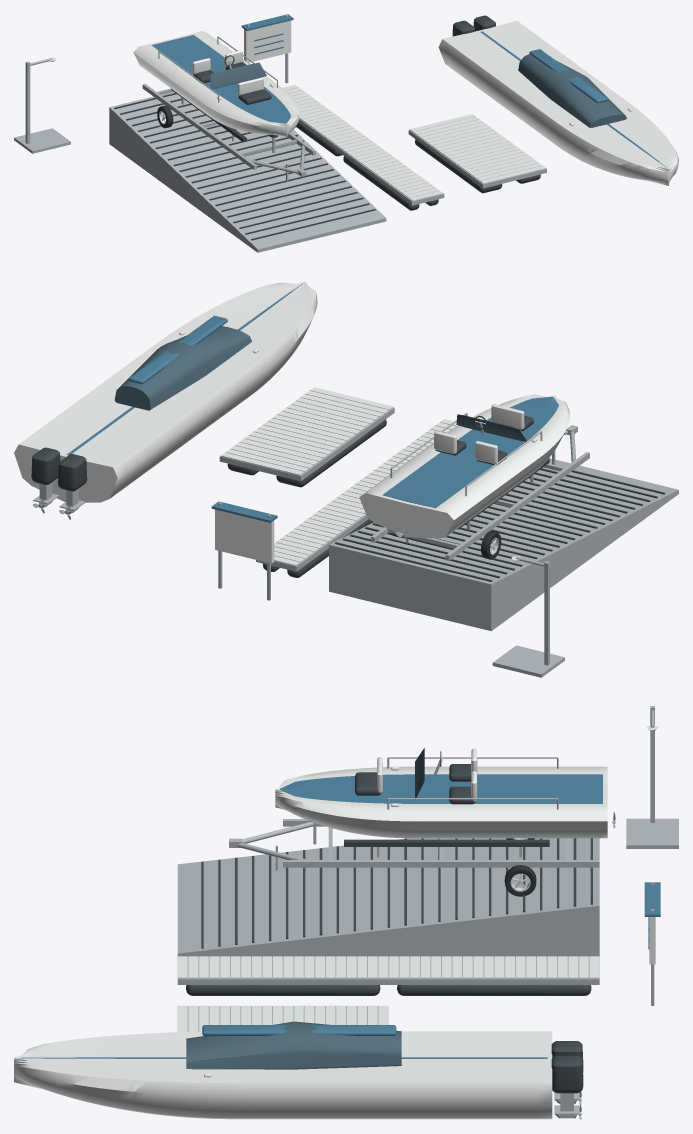
File: powerboat-racing-and-launch-ramp-launch--83454d06-starter-scene__22314.glb
3 renders of one model, top to bottom at view 1: azimuth 30°, elevation 25°; view 2: azimuth 150°, elevation 25°; view 3: azimuth 270°, elevation 25°, orthographic. The views are drawn at different scales.
Parts seen in each view (by area): view 1: 000-launch-ramp-module/0, 005-offshore-monohull-racer/0, 001-bowrider-on-trailer/0, 000-launch-ramp-module/1, 004-floating-dock-module/2, 005-offshore-monohull-racer/2, 001-bowrider-on-trailer/1, 003-ramp-side-finger-dock/2, 001-bowrider-on-trailer/5, 002-ramp-side-finger-dock/2, 007-notice-board/1, 006-rinse-station/0 (+8 smaller); view 2: 000-launch-ramp-module/0, 005-offshore-monohull-racer/0, 001-bowrider-on-trailer/0, 004-floating-dock-module/2, 000-launch-ramp-module/1, 001-bowrider-on-trailer/1, 005-offshore-monohull-racer/2, 002-ramp-side-finger-dock/2, 001-bowrider-on-trailer/5, 007-notice-board/1, 006-rinse-station/0, 005-offshore-monohull-racer/1 (+8 smaller); view 3: 000-launch-ramp-module/0, 005-offshore-monohull-racer/0, 001-bowrider-on-trailer/0, 005-offshore-monohull-racer/2, 001-bowrider-on-trailer/1, 000-launch-ramp-module/1, 001-bowrider-on-trailer/5, 002-ramp-side-finger-dock/2, 003-ramp-side-finger-dock/2, 004-floating-dock-module/2, 001-bowrider-on-trailer/2, 005-offshore-monohull-racer/1 (+8 smaller).
Part boxes in pixels (x1,y1,x2,y2): 000-launch-ramp-module/0: [109, 92, 386, 252]; 005-offshore-monohull-racer/0: [438, 20, 678, 185]; 001-bowrider-on-trailer/0: [133, 31, 300, 136]; 000-launch-ramp-module/1: [114, 93, 375, 240]; 004-floating-dock-module/2: [409, 114, 545, 183]; 005-offshore-monohull-racer/2: [518, 54, 626, 127]; 001-bowrider-on-trailer/1: [151, 35, 290, 123]; 003-ramp-side-finger-dock/2: [339, 139, 443, 201]; 001-bowrider-on-trailer/5: [142, 36, 315, 181]; 002-ramp-side-finger-dock/2: [282, 85, 368, 146]; 007-notice-board/1: [244, 20, 291, 62]; 006-rinse-station/0: [14, 58, 70, 153]; 000-launch-ramp-module/0: [329, 458, 678, 631]; 005-offshore-monohull-racer/0: [14, 281, 317, 502]; 001-bowrider-on-trailer/0: [359, 394, 569, 538]; 004-floating-dock-module/2: [221, 387, 393, 475]; 000-launch-ramp-module/1: [335, 468, 665, 581]; 001-bowrider-on-trailer/1: [382, 396, 558, 508]; 005-offshore-monohull-racer/2: [114, 326, 251, 410]; 002-ramp-side-finger-dock/2: [274, 487, 366, 566]; 001-bowrider-on-trailer/5: [371, 412, 589, 560]; 007-notice-board/1: [215, 509, 274, 563]; 006-rinse-station/0: [492, 557, 564, 677]; 005-offshore-monohull-racer/1: [66, 283, 302, 455]; 000-launch-ramp-module/0: [177, 838, 599, 956]; 005-offshore-monohull-racer/0: [14, 1031, 552, 1119]; 001-bowrider-on-trailer/0: [275, 748, 607, 838]; 005-offshore-monohull-racer/2: [186, 1021, 401, 1069]; 001-bowrider-on-trailer/1: [280, 774, 602, 803]; 000-launch-ramp-module/1: [201, 838, 592, 948]; 001-bowrider-on-trailer/5: [229, 757, 599, 870]; 002-ramp-side-finger-dock/2: [389, 956, 599, 978]; 003-ramp-side-finger-dock/2: [178, 956, 388, 978]; 004-floating-dock-module/2: [178, 1005, 388, 1032]; 001-bowrider-on-trailer/2: [310, 764, 549, 846]; 005-offshore-monohull-racer/1: [19, 1025, 547, 1060].
Size of the model in its own units: 14.38 by 3.38 by 12.6.
